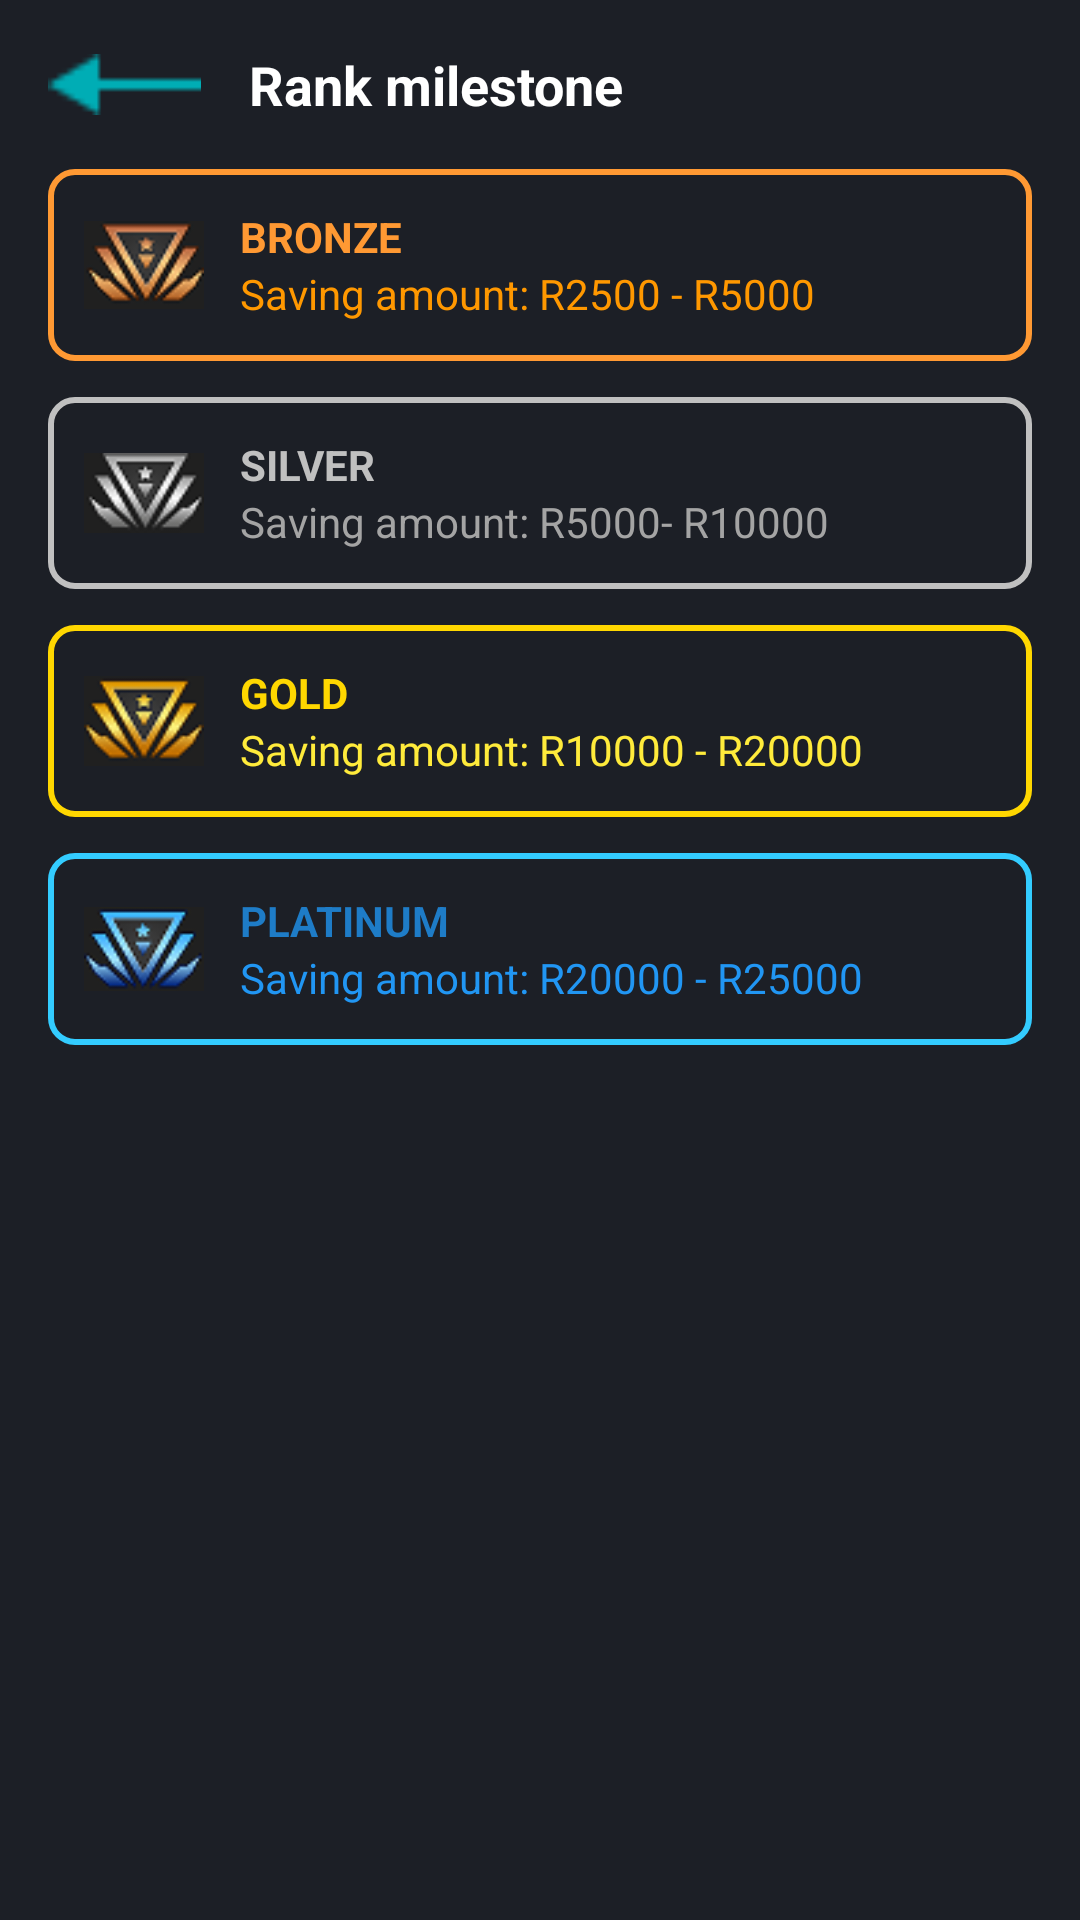

Locate icon controls on the screen. Image size 1080 × 1920, boxes as {"left": x1, "top": y1, "right": x2, "bottom": y2}.
Back: {"left": 48, "top": 54, "right": 201, "bottom": 115}
